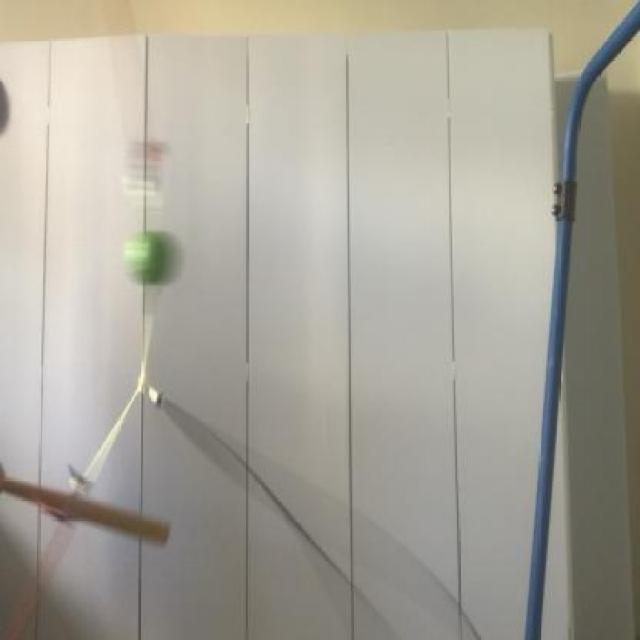baseball: (121, 224, 181, 291)
